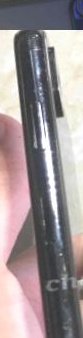scratch: (24, 35, 51, 113), (44, 238, 71, 272)
